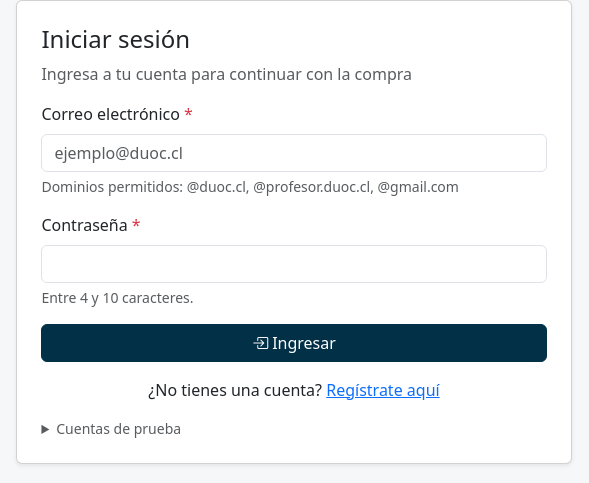
Test: Página Login › valida el formulario antes de intentar ingresar
The image size is (589, 483).
Click the button "Ingresar": (294, 343) [41, 324, 547, 362]
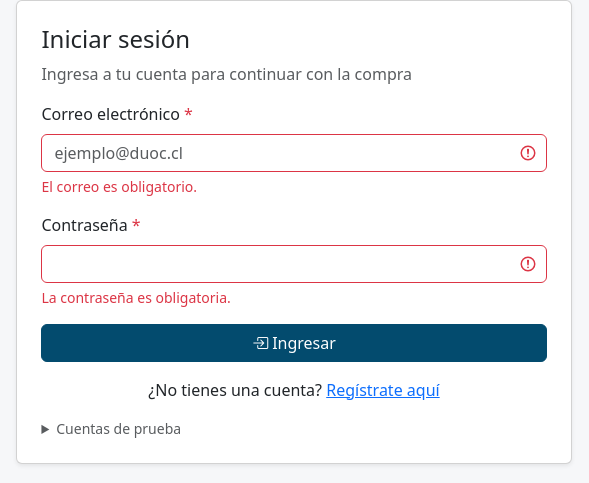
Now the text "El correo es obligatorio." is shown, box [41, 177, 197, 196]
Now the text "La contraseña es obligatoria." is shown, box [41, 288, 231, 307]
